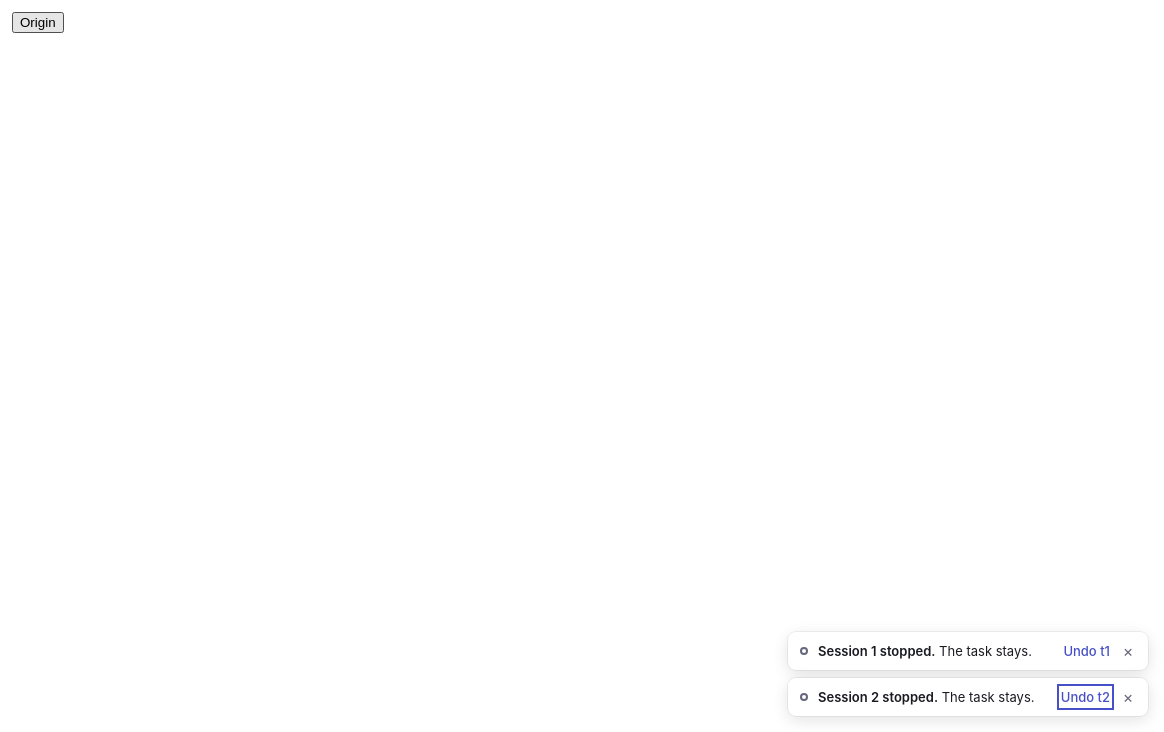
Toast focus hand-off (AC8) › a toast the caller removes while it holds focus (its action) hands focus on too
Click the button "Undo t2".
click(1085, 697)  # box [1061,688,1110,706]
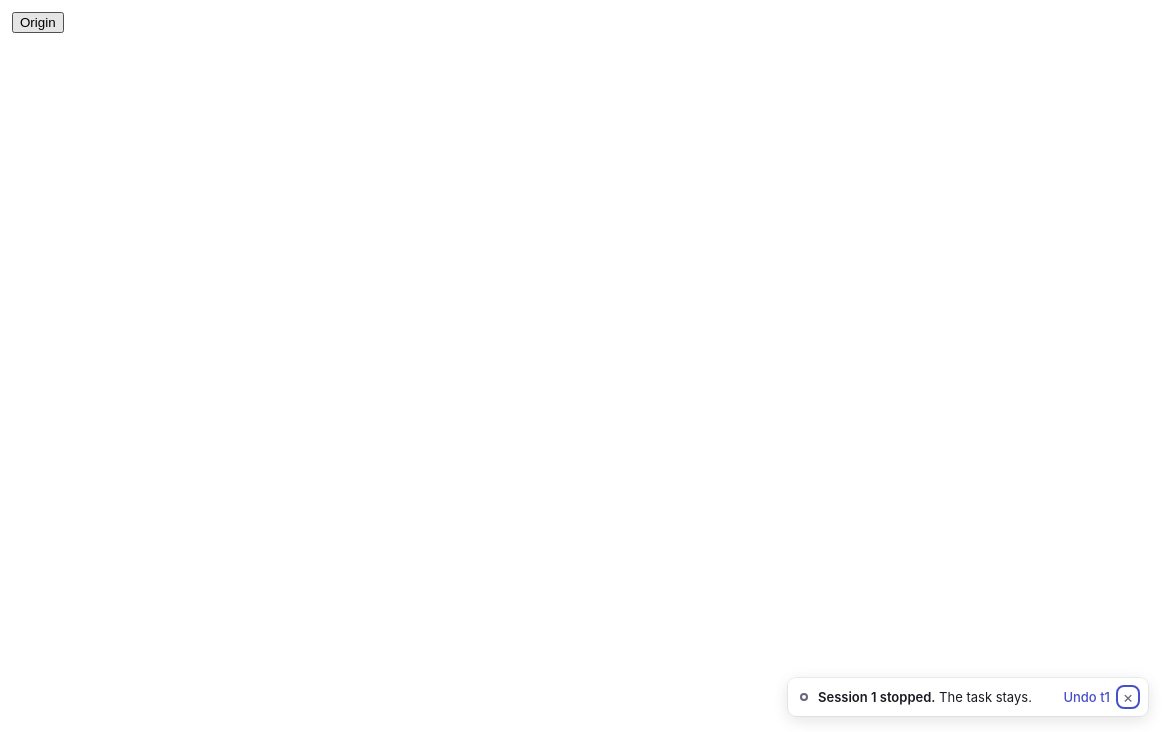
Check: the number of messages is 1, box [788,678,1148,716]
